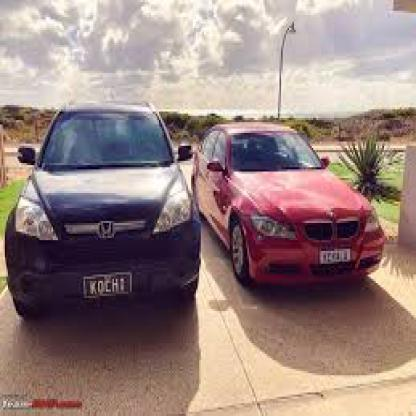car: (6, 101, 201, 315), (192, 118, 388, 296)
